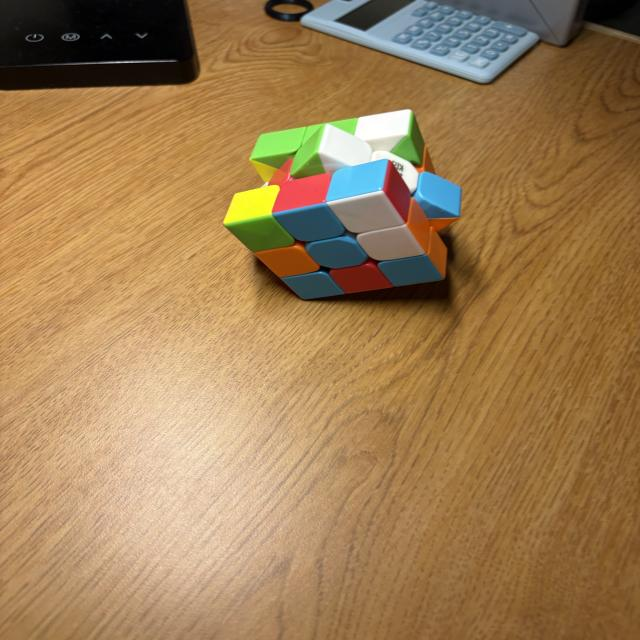Rubiks Cube: (224, 108, 463, 301)
